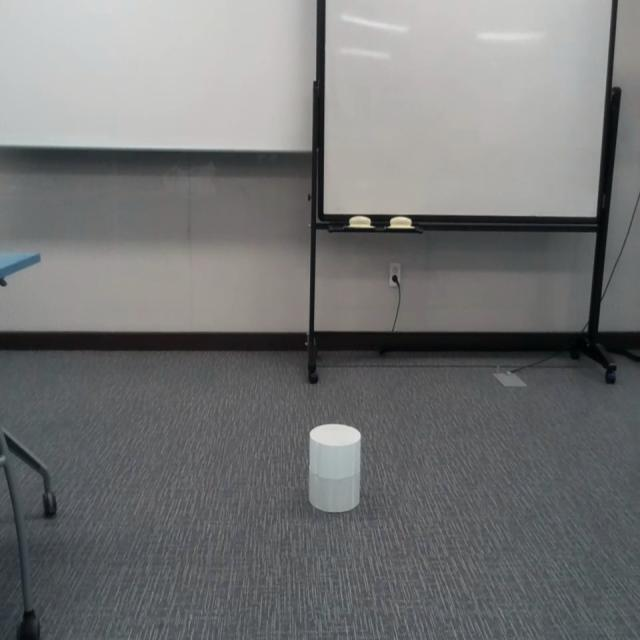cylinder: (308, 423, 362, 513)
